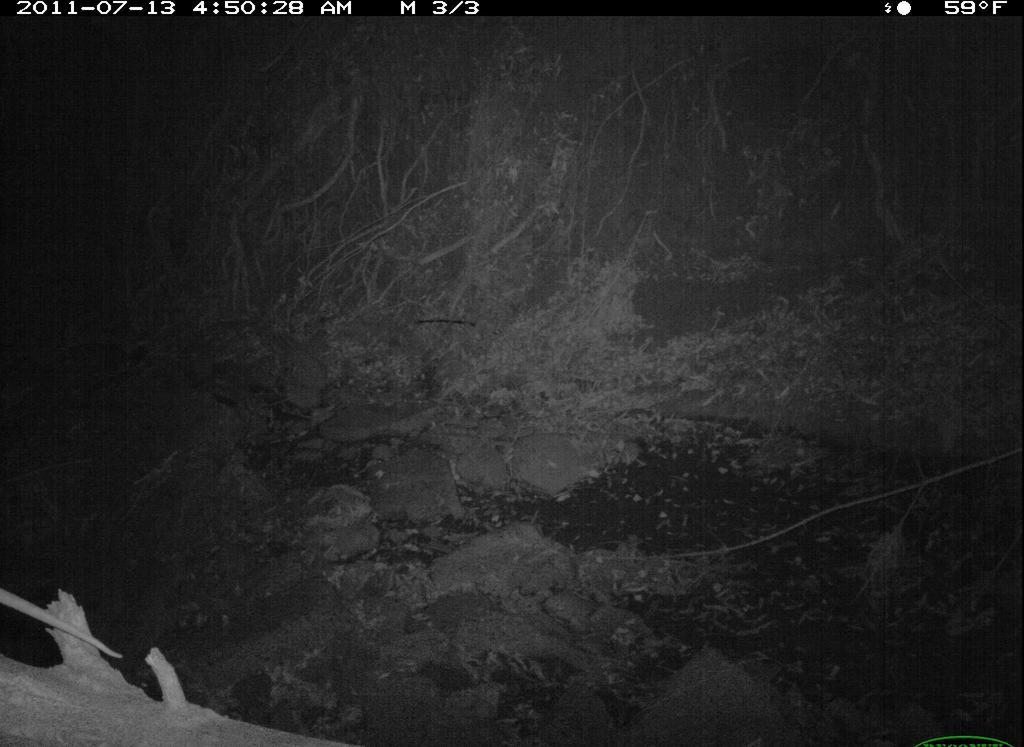opossum: (2, 579, 129, 660)
